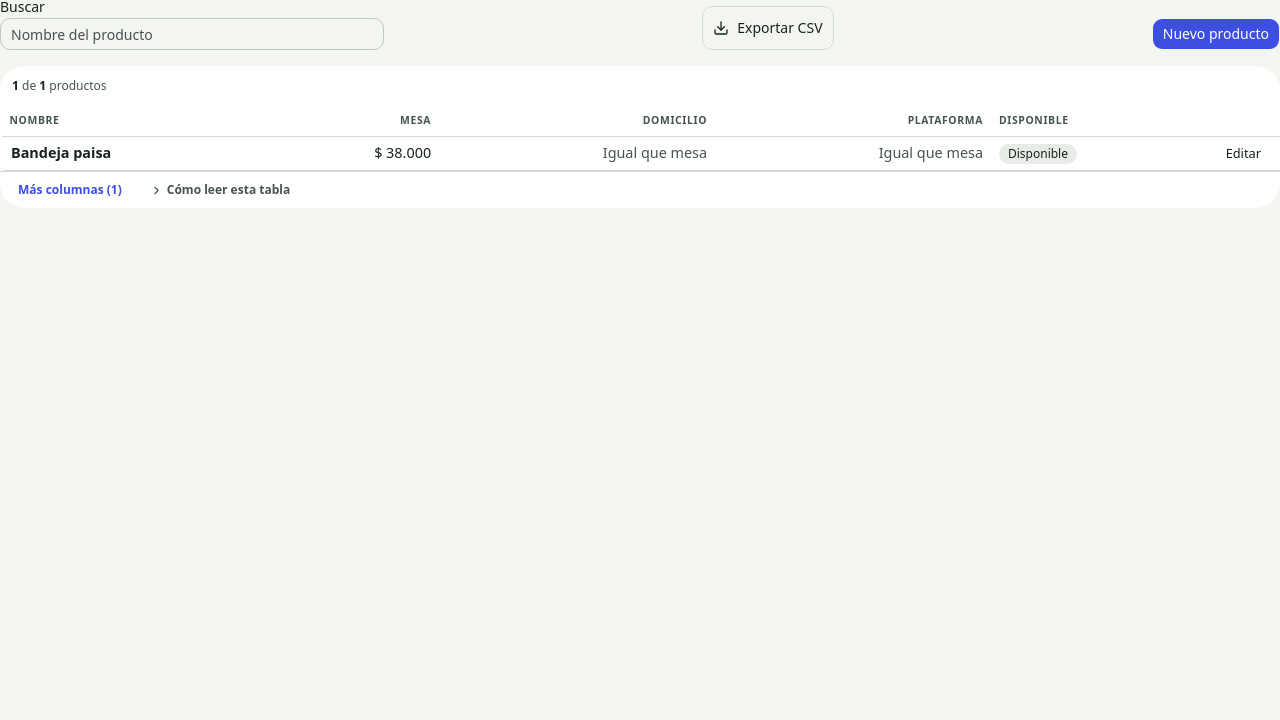
ProductsTab › «Editar» abre el formulario del producto de esa fila
The width and height of the screenshot is (1280, 720).
Expected: the text "Bandeja paisa" is shown, 2,136 -> 272,170
Click the button "Editar" at (1243, 153), box 1215,139 -> 1272,167
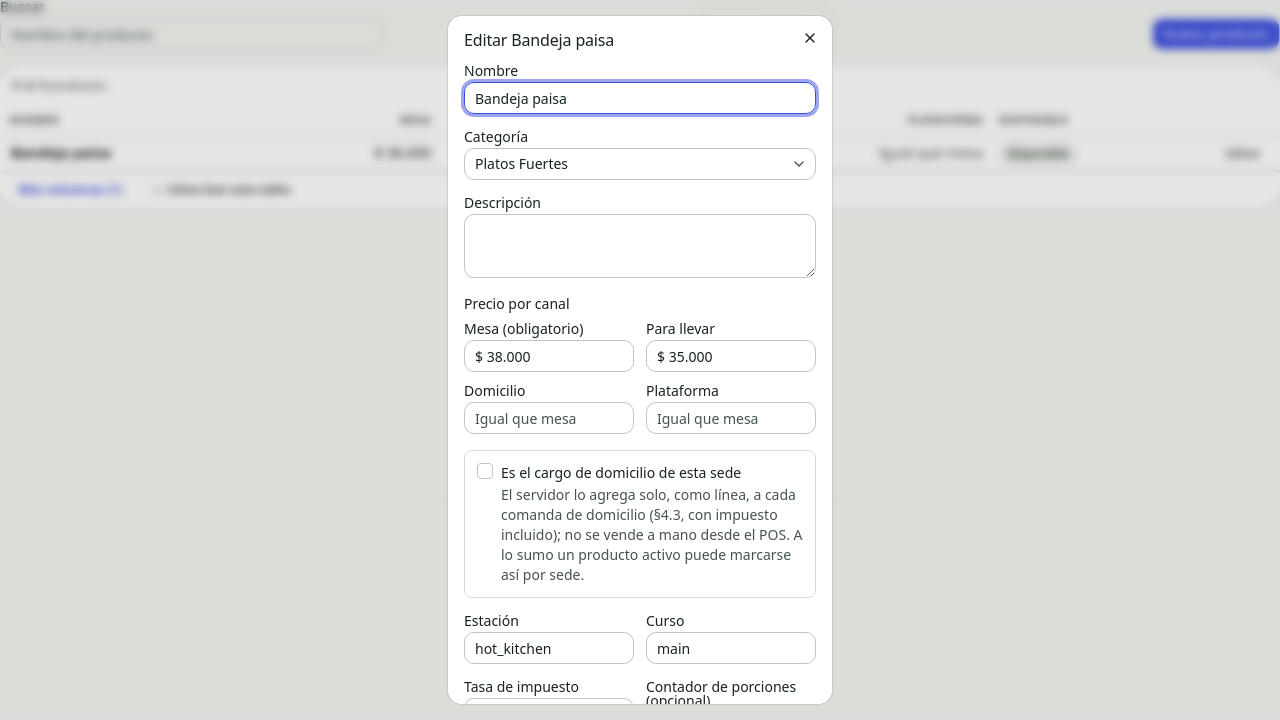
Now the dialog "Editar Bandeja paisa" is shown, box 448,16 -> 832,704
